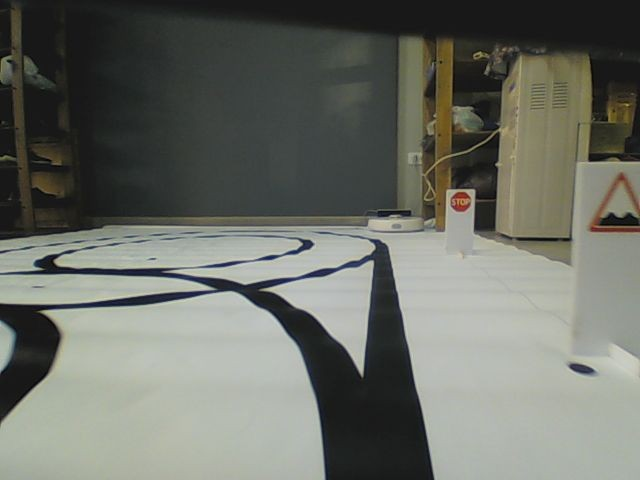Stop: (450, 192, 471, 212)
